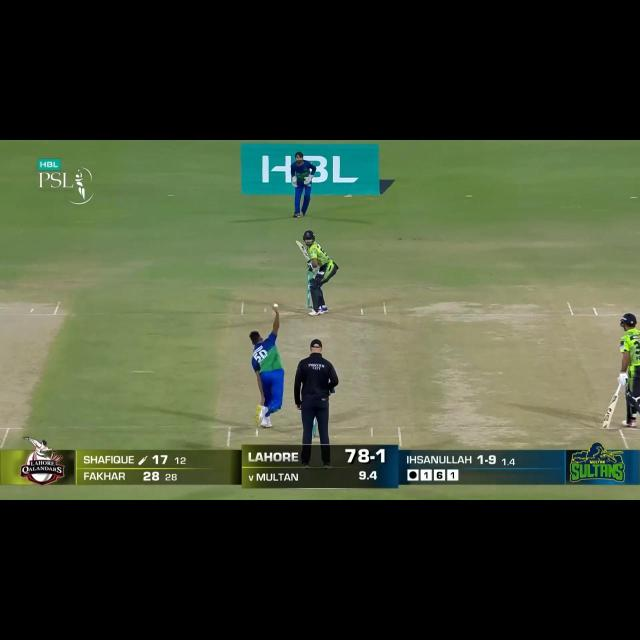bat: (601, 395, 619, 430), (292, 240, 314, 262)
toe: (600, 418, 612, 429), (295, 239, 302, 247)
